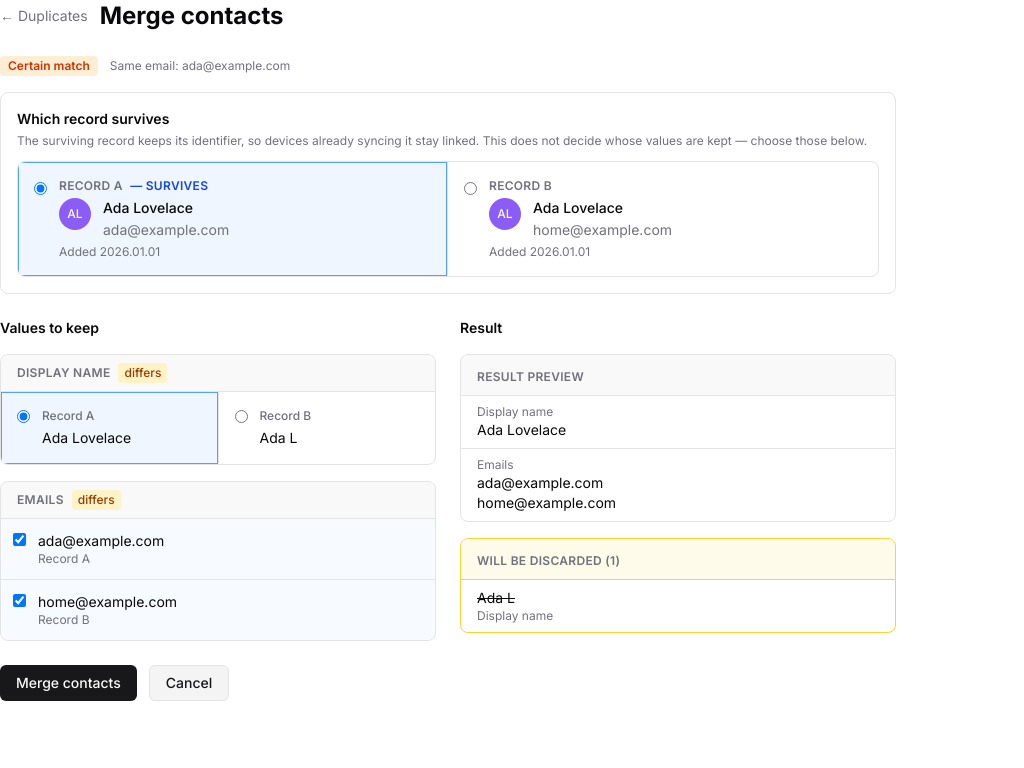
Test: ContactMergeView › stays mounted and shows the error when the merge fails
Click the button "Merge contacts" at (68, 683), box x1=0 y1=665 x2=137 y2=701
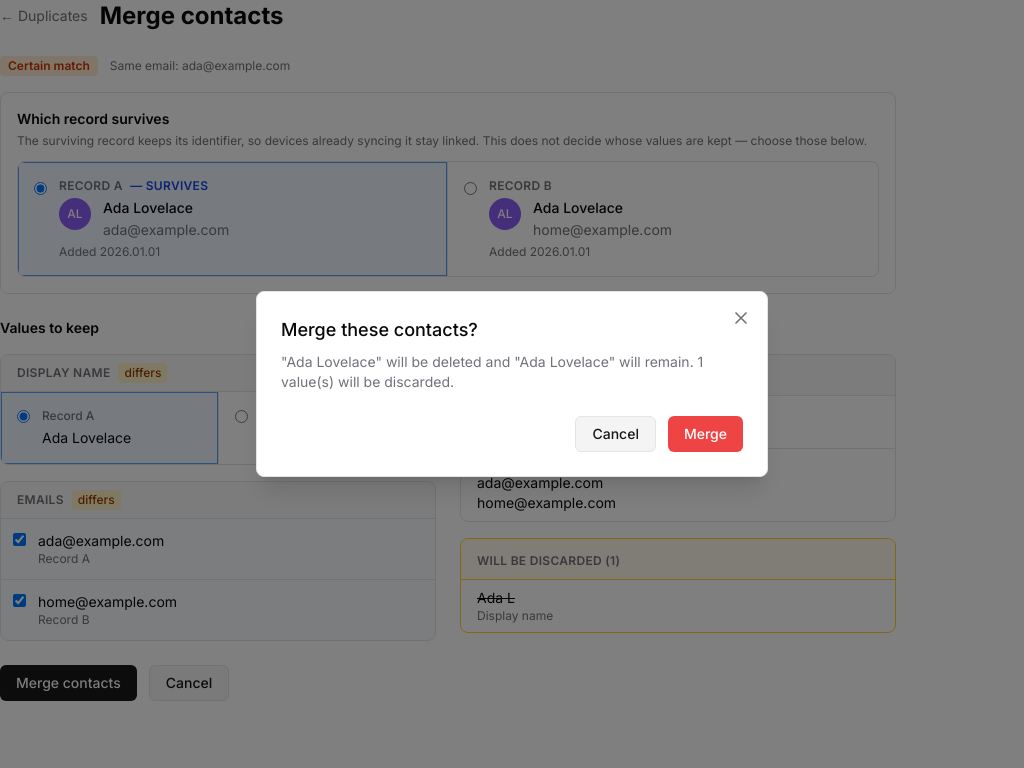
Click the button "Merge" at (706, 434), box x1=668 y1=416 x2=743 y2=452
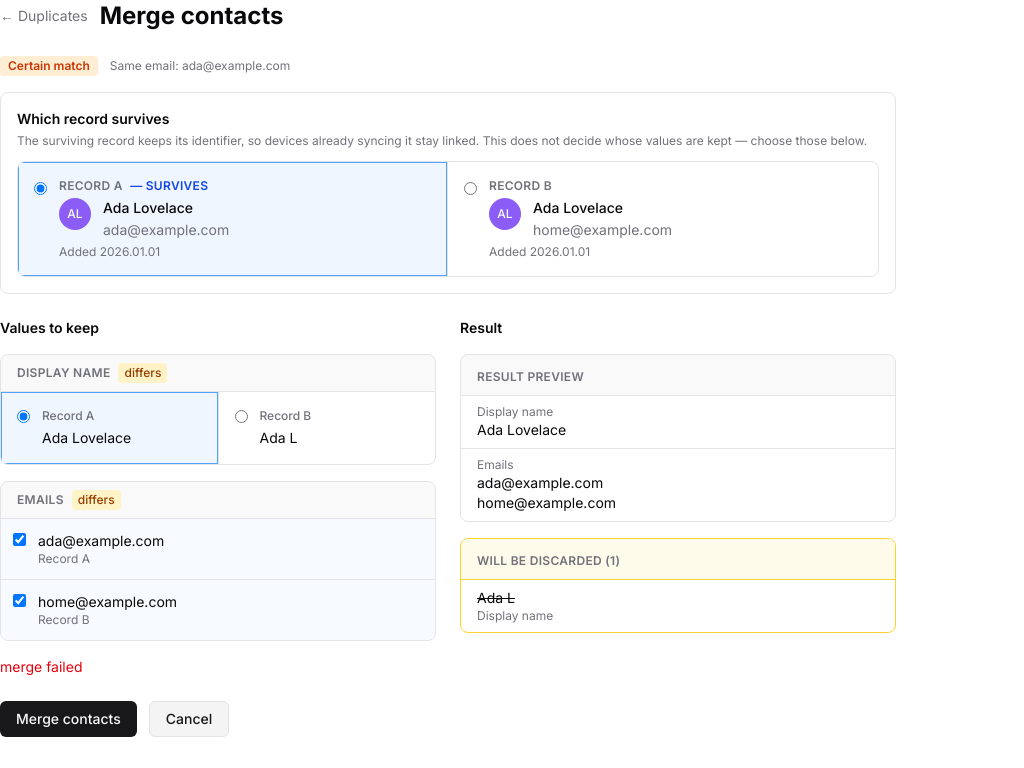
Expected: the text "Which record survives" is shown, x1=17 y1=110 x2=169 y2=127
Expected: the text "merge failed" is shown, x1=0 y1=658 x2=82 y2=675
